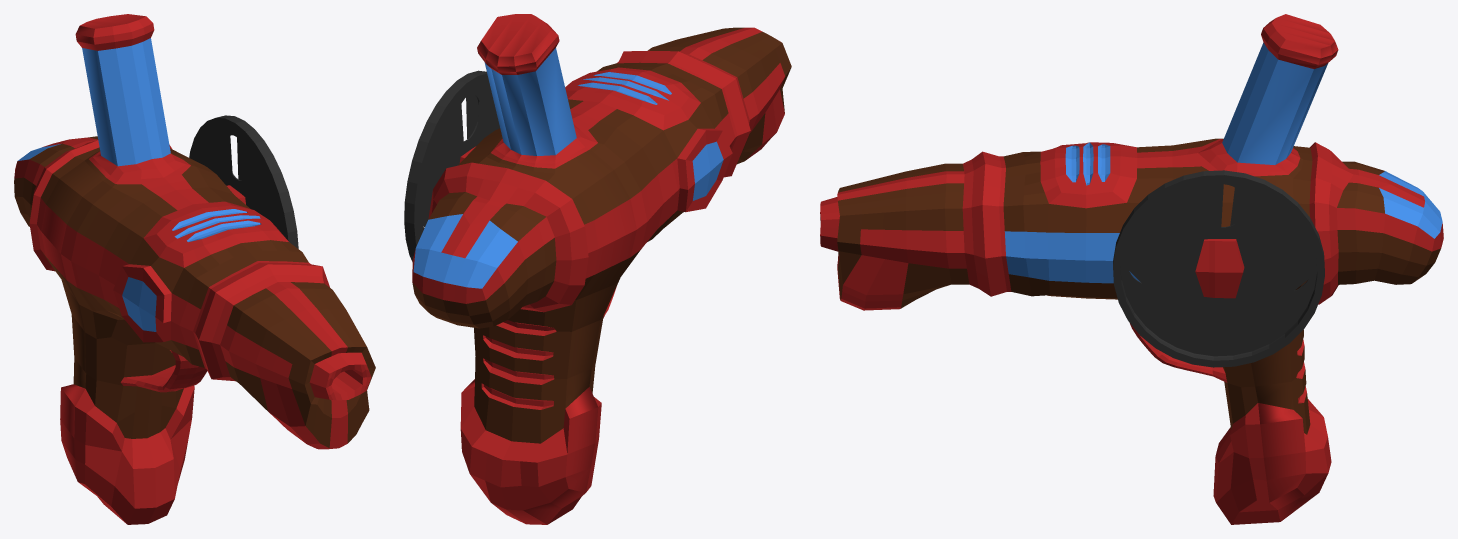
File: Arminha_UrsoRevisada (1).fbx
3 views of the same model, side by side, from view 1: azimuth 30°, elevation 25°; view 2: azimuth 150°, elevation 25°; view 3: azimuth 270°, elevation 25° (orthographic). The views are drawn at different scales.
Parts seen in each view (by area): view 1: Cube.001, Cylinder.001; view 2: Cube.001, Cylinder.001; view 3: Cube.001, Cylinder.001.
Boxes of the visible parts, <box> form: Cube.001: <box>14,14,375,524</box>; Cylinder.001: <box>189,115,298,248</box>; Cube.001: <box>412,14,791,524</box>; Cylinder.001: <box>404,70,499,261</box>; Cube.001: <box>820,14,1443,524</box>; Cylinder.001: <box>1113,170,1324,367</box>.
Size of the model in its own units: 1.72 by 5.03 by 4.41.
